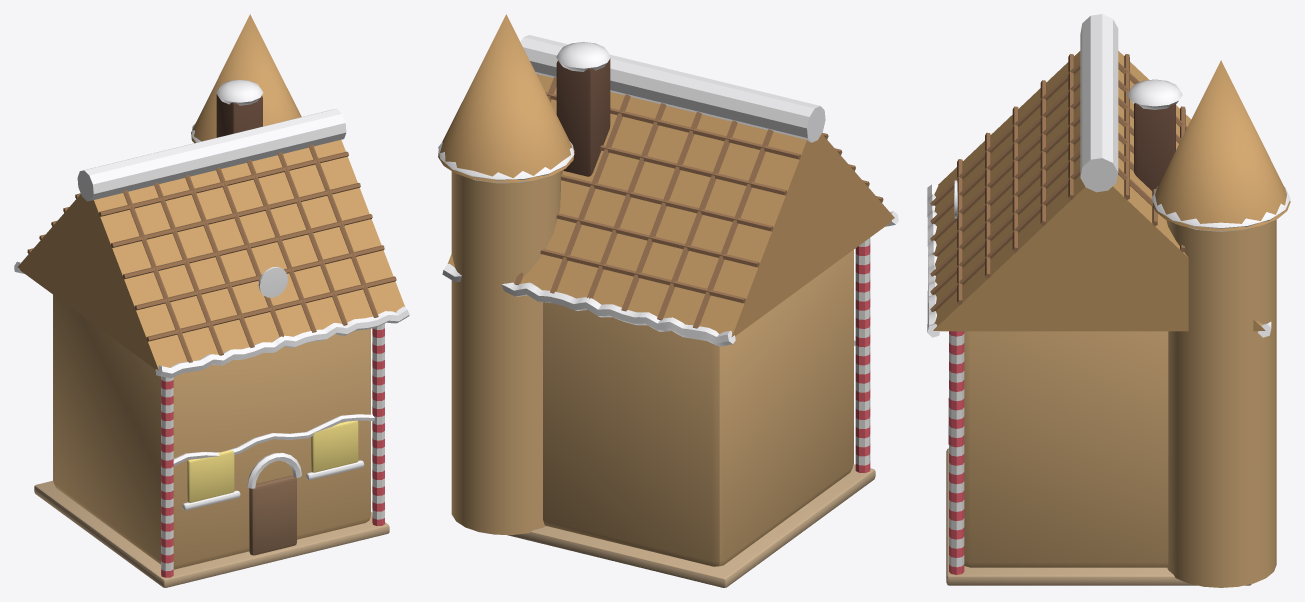
The model's file is GingerHouse_Tall.fbx.
3 views of the same model, side by side, from view 1: azimuth 30°, elevation 25°; view 2: azimuth 150°, elevation 25°; view 3: azimuth 270°, elevation 25° (orthographic). The views are drawn at different scales.
Parts seen in each view (by area): view 1: GingerHouse_Tall; view 2: GingerHouse_Tall; view 3: GingerHouse_Tall.
Part boxes in pixels (x1,y1,x2,y2): GingerHouse_Tall: (14,14,409,587); GingerHouse_Tall: (438,14,898,587); GingerHouse_Tall: (927,14,1290,587).
Size of the model in its own units: 10.4 by 16.3 by 10.45.
